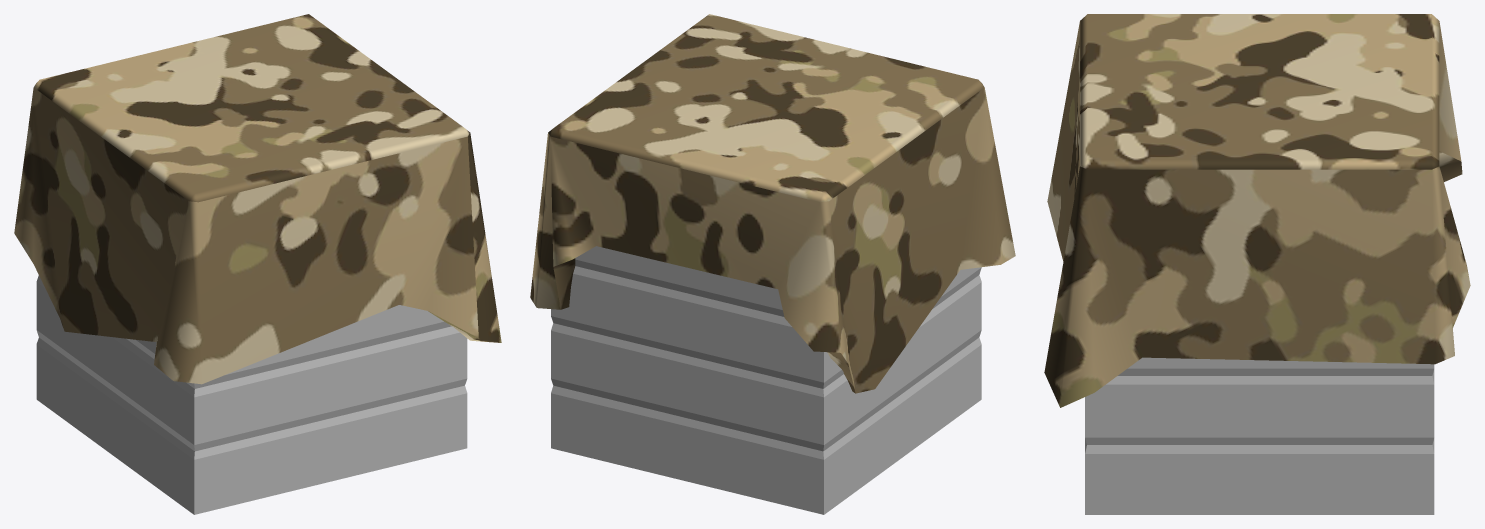
The picture shows the model from 3 angles, left to right: view 1: azimuth 30°, elevation 25°; view 2: azimuth 150°, elevation 25°; view 3: azimuth 270°, elevation 25°; orthographic projection. The views are drawn at different scales.
Parts seen in each view (by area): view 1: Box_022; view 2: Box_022; view 3: Box_022.
Part boxes in pixels (x1,y1,x2,y2): Box_022: [14, 14, 501, 514]; Box_022: [530, 14, 1015, 514]; Box_022: [1044, 14, 1470, 514].
Size of the model in its own units: 144 by 144 by 132.
